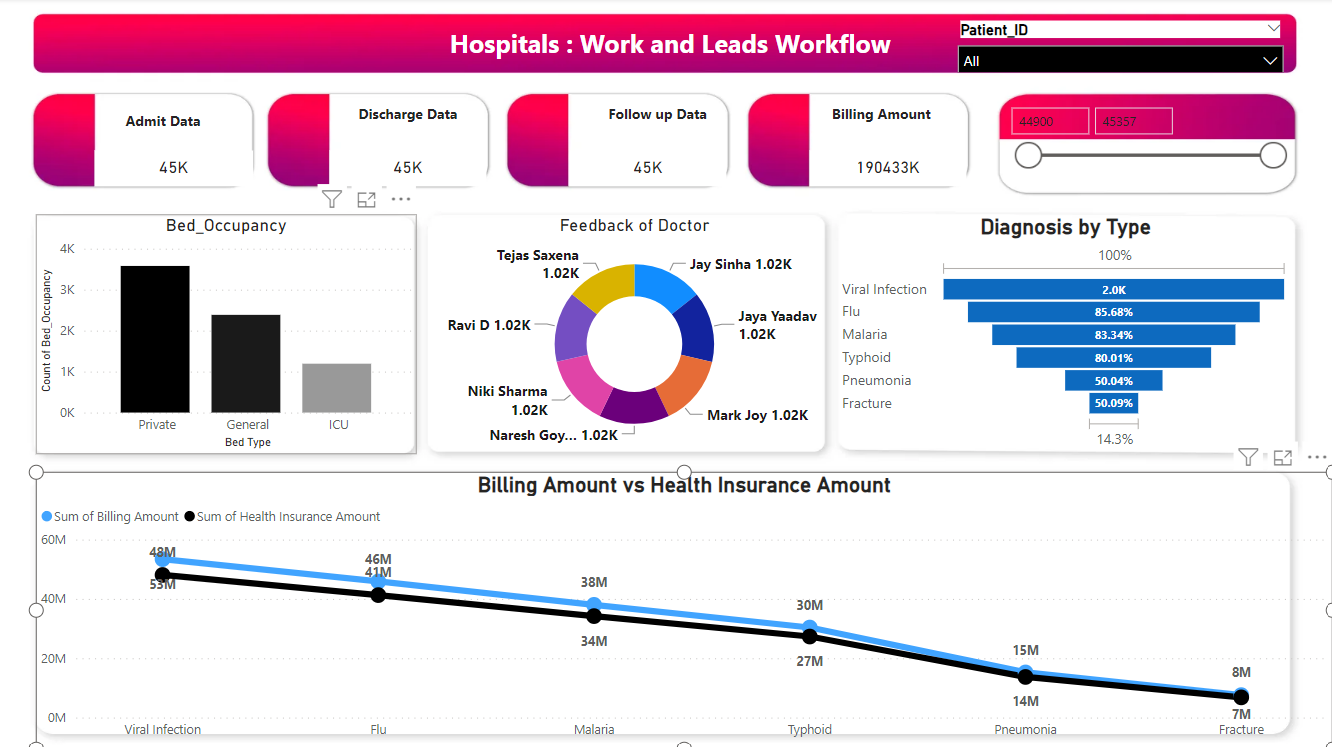

Layout of this report page (visuals, bound fields, positions):
{"tool":"powerbi","page":{"name":"Page 1","canvas":[1280,720],"ordinal":0},"visuals":[{"type":"textbox","box":[428.4,22.6,441.5,42.8],"z":0},{"type":"slicer","title":"Select Patient Id","fields":{"Values":["Sheet1.Patient_ID"]},"box":[910.4,16.7,332,54.7],"z":1000},{"type":"card","fields":{"Values":["Sheet1.Admit_Date"]},"box":[93.8,146.4,152,34.1],"z":2000},{"type":"textbox","box":[107.1,103.5,104.7,34.5],"z":3000},{"type":"textbox","box":[568.4,96.6,127.9,34.1],"z":4000},{"type":"textbox","box":[335.3,96.6,116.5,34.1],"z":5000},{"type":"card","fields":{"Values":["Sheet1.Followup Date"]},"box":[548.5,146.4,150.6,34.1],"z":6000},{"type":"card","fields":{"Values":["Sheet1.Discharge_Date"]},"box":[318.3,146.4,150.6,34.1],"z":7000},{"type":"textbox","box":[783,96.6,127.9,34.1],"z":8000},{"type":"card","fields":{"Values":["Sheet1.Billing Amount"]},"box":[778.7,146.4,150.6,34.1],"z":9000},{"type":"slicer","fields":{"Values":["Sheet1.Admit_Date"]},"box":[959.2,95.2,284.2,85.3],"z":10000},{"type":"columnChart","title":"Bed_Occupancy ","fields":{"Category":["Sheet1.Bed_Occupancy"],"Y":["Sheet1.Bed_Occupancy"]},"box":[37.5,207.5,365,230],"z":11000},{"type":"donutChart","title":"Feedback of Doctor","fields":{"Category":["Sheet1.Doctor"],"Y":["Sheet1.Doctor"]},"box":[428.6,207.1,364.3,230],"z":12000},{"type":"funnel","title":"Diagnosis by Type","fields":{"Category":["Sheet1.Diagnosis"],"Y":["Sheet1.Diagnosis"]},"box":[804.3,207.1,438.6,230],"z":12001},{"type":"lineChart","title":" Billing Amount vs Health Insurance Amount ","fields":{"Y":["Sheet1.Billing Amount","Sheet1.Health Insurance Amount"],"Category":["Sheet1.Diagnosis"]},"box":[37.1,454.3,1242.9,265.7],"z":12002}]}

Visuals, with their boxes in screenshot pixels (x1, y1, x2, y2), scaled from the page's 1280x720 canvas onto the 1332x747 screenshot:
textbox: box=[446, 23, 905, 68]
"Select Patient Id" slicer: box=[947, 17, 1293, 74]
card - Sheet1.Admit_Date: box=[98, 152, 256, 187]
textbox: box=[111, 107, 220, 143]
textbox: box=[591, 100, 725, 136]
textbox: box=[349, 100, 470, 136]
card - Sheet1.Followup Date: box=[571, 152, 728, 187]
card - Sheet1.Discharge_Date: box=[331, 152, 488, 187]
textbox: box=[815, 100, 948, 136]
card - Sheet1.Billing Amount: box=[810, 152, 967, 187]
slicer - Sheet1.Admit_Date: box=[998, 99, 1294, 187]
"Bed_Occupancy " columnChart: box=[39, 215, 419, 454]
"Feedback of Doctor" donutChart: box=[446, 215, 825, 453]
"Diagnosis by Type" funnel: box=[837, 215, 1293, 453]
" Billing Amount vs Health Insurance Amount " lineChart: box=[39, 471, 1331, 746]
